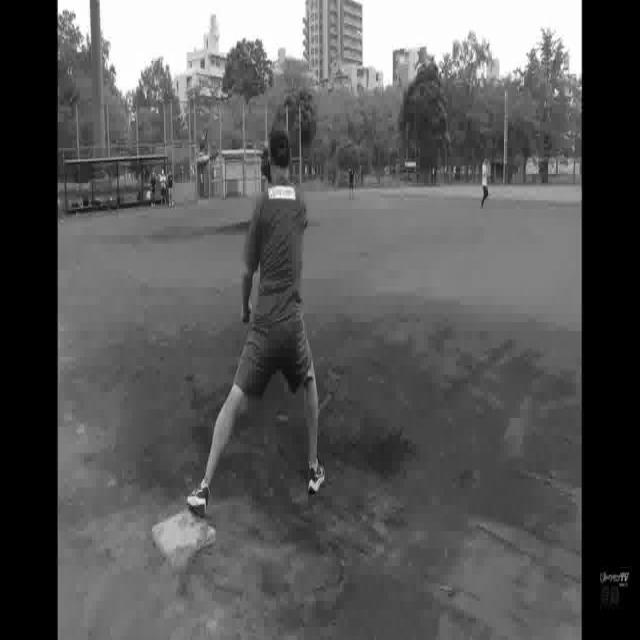base: (149, 511, 220, 567)
baseball_glove: (188, 479, 212, 524), (306, 454, 327, 500), (260, 141, 275, 181)
